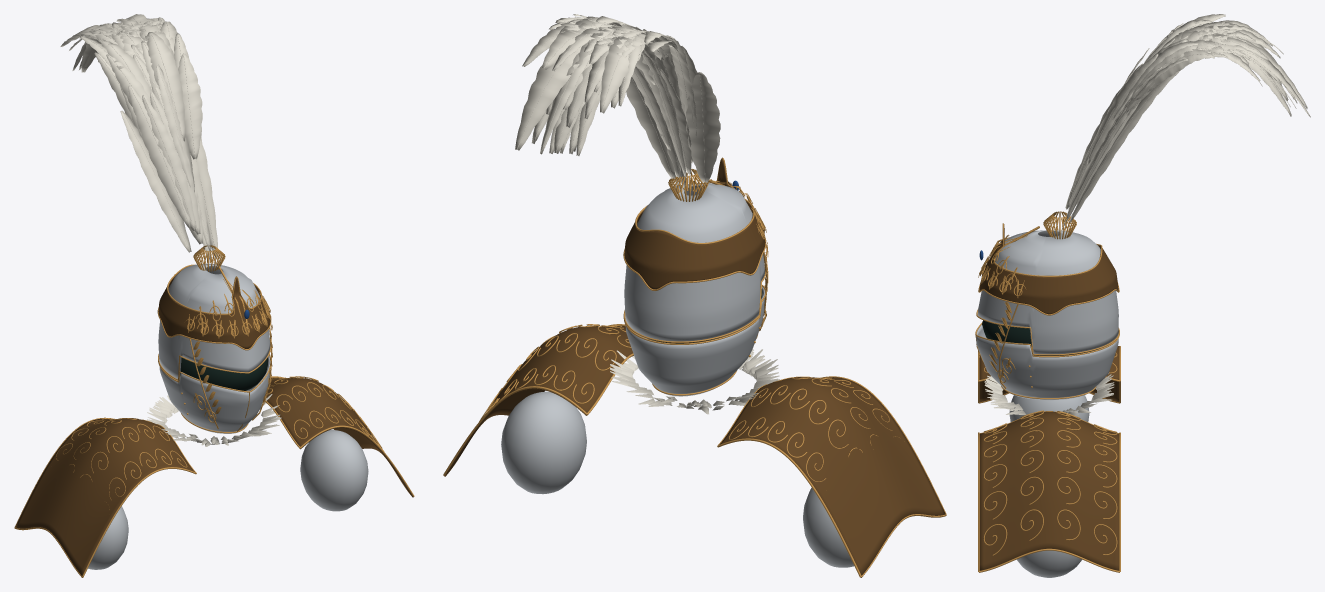
File: OriginalSovereign_HelmetStudy_R13D.glb
3 renders of one model, left to right at view 1: azimuth 30°, elevation 25°; view 2: azimuth 150°, elevation 25°; view 3: azimuth 270°, elevation 25°, orthographic. The views are drawn at different scales.
Parts seen in each view (by area): view 1: Arched pauldron engraved foundation, Upper formed helmet and brow, Upper arm scale context.001, Arched pauldron engraved foundation.001, Tapered bevor and chin, Sculpted scalloped crown foundation, Individual curved ivory feather vane.026, Individual curved ivory feather vane.008, Individual curved ivory feather vane.032, Individual curved ivory feather vane.043, Individual curved ivory feather vane.090, Deep opaque visor recess (+7 smaller); view 2: Arched pauldron engraved foundation, Upper formed helmet and brow, Upper arm scale context.001, Arched pauldron engraved foundation.001, Sculpted scalloped crown foundation, Tapered bevor and chin, Individual curved ivory feather vane.008, Upper arm scale context, Individual curved ivory feather vane.052, Individual curved ivory feather vane.070, Individual curved ivory feather vane.095, Individual curved ivory feather vane.047 (+5 smaller); view 3: Arched pauldron engraved foundation.001, Upper formed helmet and brow, Tapered bevor and chin, Sculpted scalloped crown foundation, Individual curved ivory feather vane.070, Upper arm scale context.001, Individual curved ivory feather vane.060, Upper arm scale context, Arched pauldron engraved foundation, Individual curved ivory feather vane.078, Deep opaque visor recess, Individual curved ivory feather vane.019 (+3 smaller).
Part boxes in pixels (left/top/right/bottom): Arched pauldron engraved foundation: left=15, top=418, right=194, bottom=577; Upper formed helmet and brow: left=158, top=263, right=270, bottom=380; Upper arm scale context.001: left=300, top=430, right=368, bottom=511; Arched pauldron engraved foundation.001: left=264, top=378, right=413, bottom=497; Tapered bevor and chin: left=159, top=356, right=270, bottom=433; Sculpted scalloped crown foundation: left=158, top=270, right=270, bottom=348; Individual curved ivory feather vane.026: left=128, top=85, right=191, bottom=227; Individual curved ivory feather vane.008: left=120, top=110, right=191, bottom=252; Individual curved ivory feather vane.032: left=178, top=53, right=202, bottom=159; Individual curved ivory feather vane.043: left=147, top=32, right=185, bottom=141; Individual curved ivory feather vane.090: left=142, top=95, right=195, bottom=230; Deep opaque visor recess: left=179, top=357, right=267, bottom=390; Arched pauldron engraved foundation: left=719, top=377, right=946, bottom=577; Upper formed helmet and brow: left=624, top=183, right=764, bottom=341; Upper arm scale context.001: left=501, top=391, right=586, bottom=494; Arched pauldron engraved foundation.001: left=444, top=326, right=633, bottom=476; Sculpted scalloped crown foundation: left=624, top=159, right=765, bottom=289; Tapered bevor and chin: left=625, top=286, right=764, bottom=396; Individual curved ivory feather vane.008: left=686, top=72, right=720, bottom=182; Upper arm scale context: left=803, top=487, right=854, bottom=567; Individual curved ivory feather vane.052: left=515, top=34, right=587, bottom=150; Individual curved ivory feather vane.070: left=626, top=77, right=675, bottom=178; Individual curved ivory feather vane.095: left=600, top=37, right=645, bottom=113; Individual curved ivory feather vane.047: left=540, top=49, right=593, bottom=154; Arched pauldron engraved foundation.001: left=979, top=411, right=1118, bottom=570; Upper formed helmet and brow: left=977, top=230, right=1118, bottom=354; Tapered bevor and chin: left=976, top=324, right=1118, bottom=400; Sculpted scalloped crown foundation: left=979, top=224, right=1118, bottom=314; Individual curved ivory feather vane.070: left=1069, top=71, right=1179, bottom=222; Upper arm scale context.001: left=1016, top=550, right=1082, bottom=577; Individual curved ivory feather vane.060: left=1087, top=53, right=1158, bottom=165; Upper arm scale context: left=1009, top=395, right=1089, bottom=421; Arched pauldron engraved foundation: left=979, top=346, right=1119, bottom=402; Individual curved ivory feather vane.078: left=1065, top=102, right=1131, bottom=220; Deep opaque visor recess: left=982, top=320, right=1097, bottom=355; Individual curved ivory feather vane.019: left=1134, top=49, right=1214, bottom=101.
Size of the model in its own units: 1.06 by 1.37 by 0.8798.
